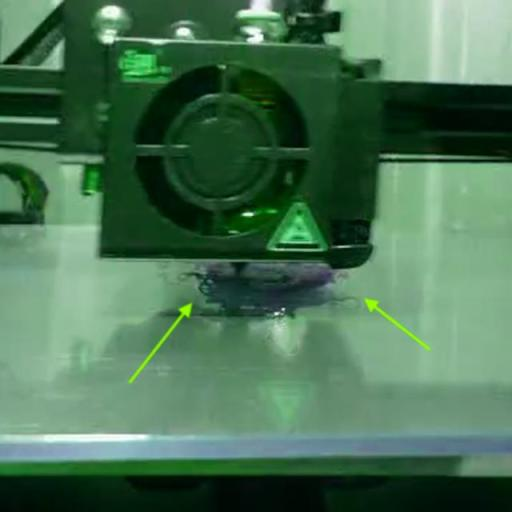spaghetti: (178, 268, 215, 300), (330, 294, 359, 304)
